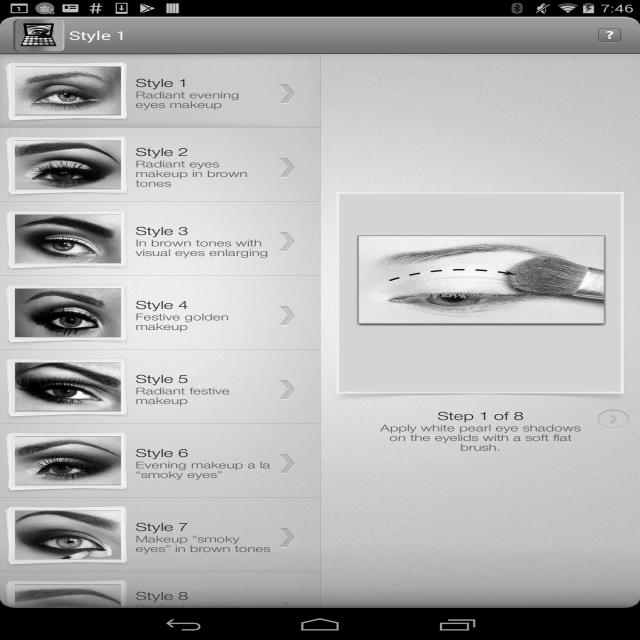ImageButton: (591, 25, 627, 47)
ImageView: (354, 233, 610, 327), (10, 509, 129, 561), (10, 62, 120, 118), (7, 435, 124, 487), (10, 139, 128, 189), (12, 290, 124, 338), (12, 18, 64, 53)
TextView: (378, 420, 586, 452), (136, 141, 257, 189), (130, 296, 233, 334), (429, 405, 533, 421), (70, 26, 132, 46)
